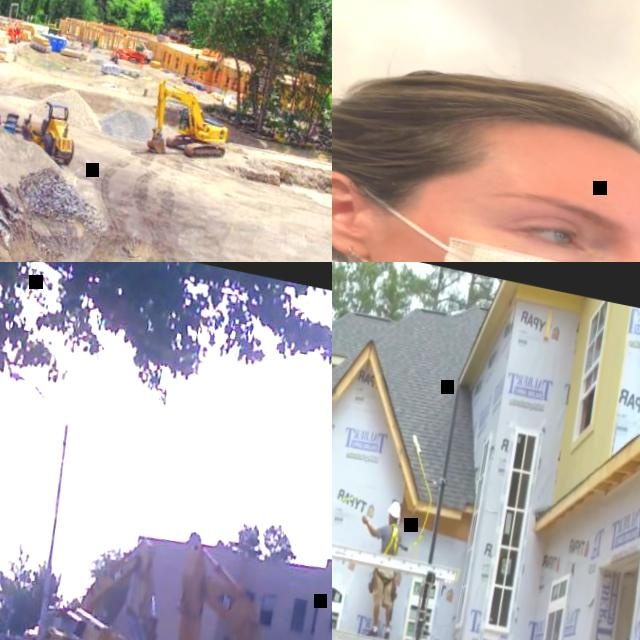Hardhat: (386, 499, 402, 517)
Mask: (332, 183, 640, 262)
NO-Hardhat: (332, 37, 640, 211)
NO-Mask: (387, 517, 391, 523)
NO-Safety Vest: (378, 522, 402, 555)
Person: (332, 12, 640, 262), (339, 494, 414, 639)
machinery: (7, 514, 174, 640), (145, 527, 305, 640), (143, 76, 234, 168), (9, 94, 80, 168)
